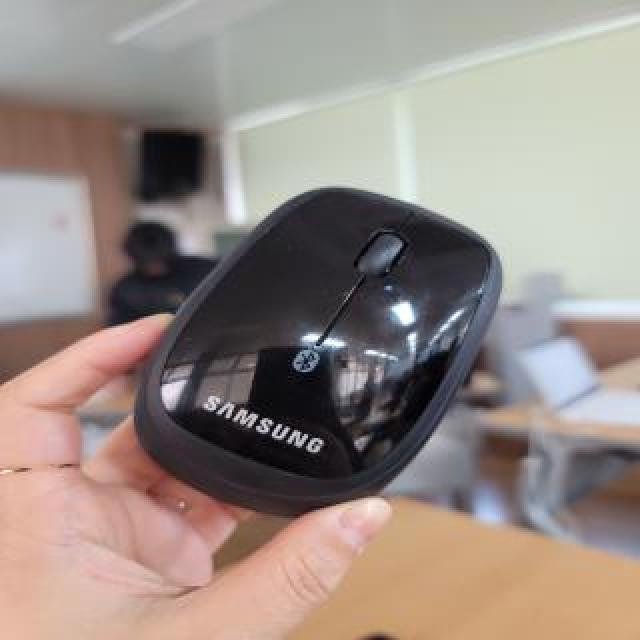mouse: (155, 90, 493, 522)
